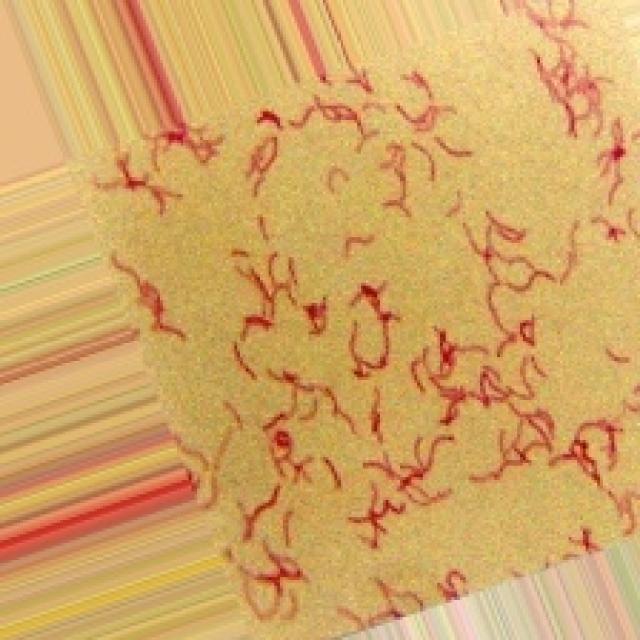Spiral_bacteria: (77, 0, 637, 637)
